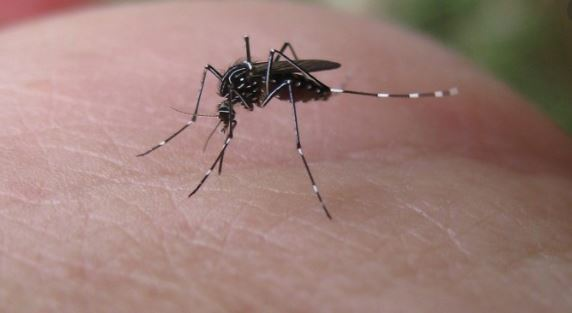dengue_mosquito: (136, 35, 423, 197)
